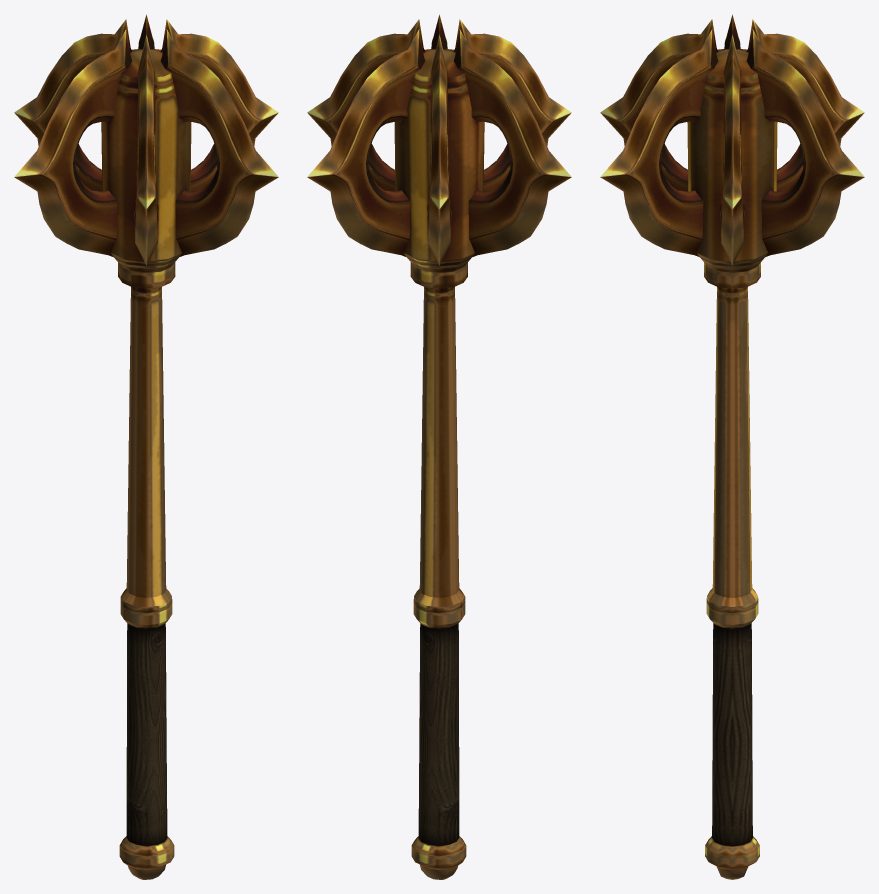
Rendered from weapon_mace_1.glb.
3 views of the same model, side by side, from view 1: azimuth 30°, elevation 25°; view 2: azimuth 150°, elevation 25°; view 3: azimuth 270°, elevation 25° (orthographic).
Visible parts, largest first — view 1: OLD; view 2: OLD; view 3: OLD.
Part boxes in pixels (x1,y1,x2,y2): OLD: (14,14,278,879); OLD: (307,14,571,879); OLD: (600,14,864,879).
Bounding box in the file's own units: 2.34 × 7.22 × 2.03.
1 material, 1 textured.
